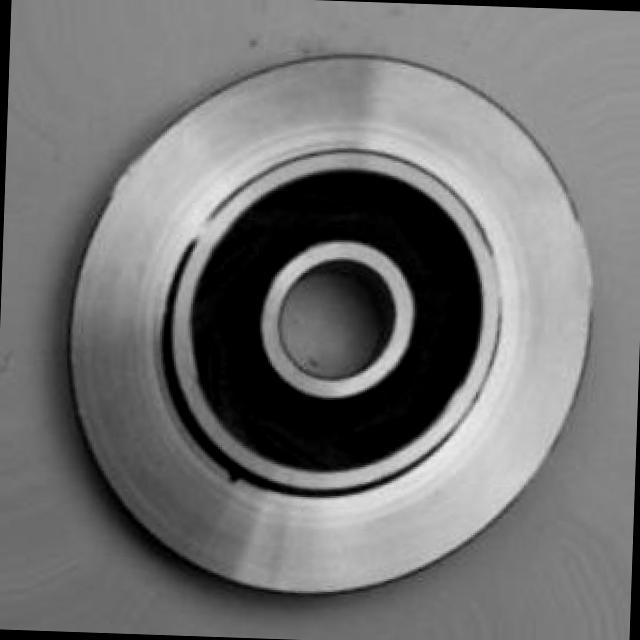Defect: (218, 454, 244, 490)
